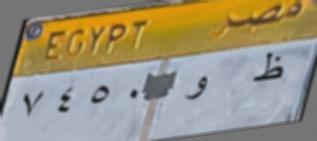0: (123, 81, 143, 107)
4: (54, 85, 77, 118)
5: (89, 82, 112, 108)
7: (22, 88, 45, 122)
Thaa: (251, 48, 290, 87)
waw: (183, 73, 211, 104)
